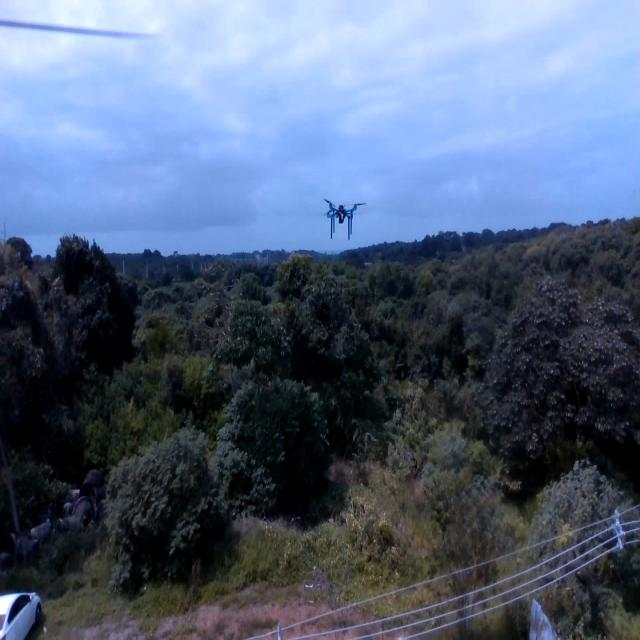-uav-: (321, 185, 367, 255)
